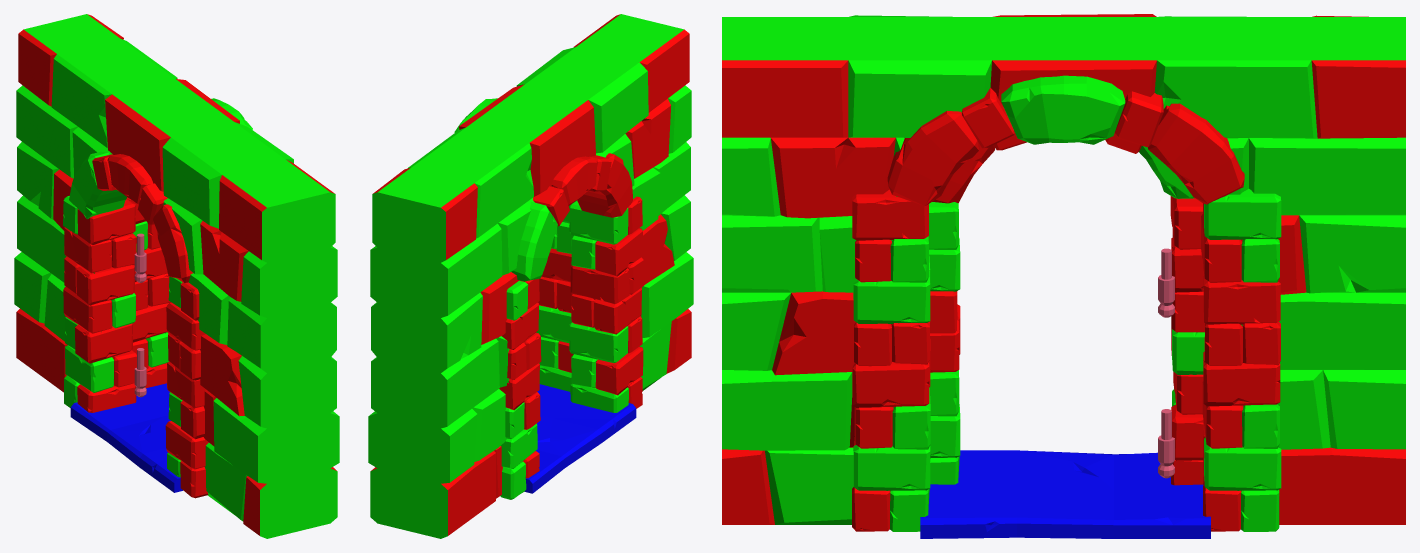
The model's file is SM_Wall_Door_1_2.fbx.
3 renders of one model, left to right at view 1: azimuth 30°, elevation 25°; view 2: azimuth 150°, elevation 25°; view 3: azimuth 270°, elevation 25°, orthographic. The views are drawn at different scales.
Parts seen in each view (by area): view 1: Mesh; view 2: Mesh; view 3: Mesh.
Part boxes in pixels (x1,y1,x2,y2): Mesh: (14,14,339,538); Mesh: (368,14,693,538); Mesh: (722,14,1405,538).
Size of the model in its own units: 105 by 300 by 400.
